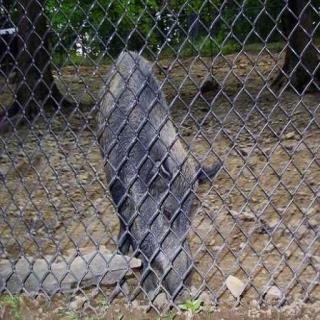Pig: (71, 26, 224, 278)
